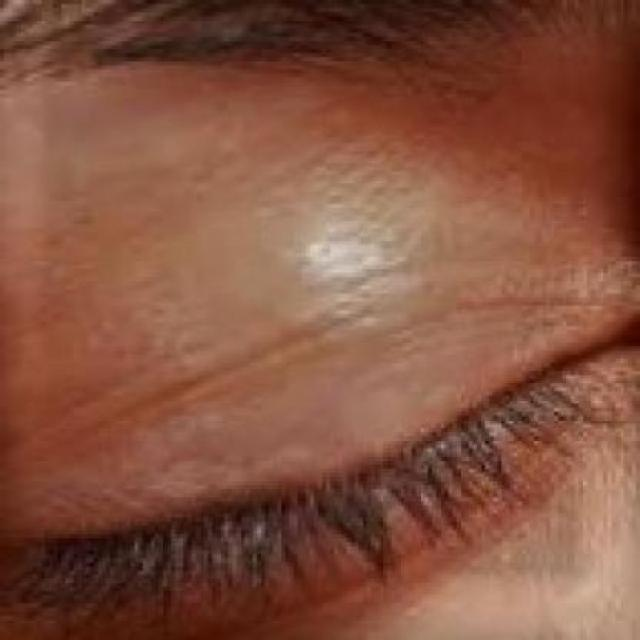drowsy: (0, 202, 635, 635)
